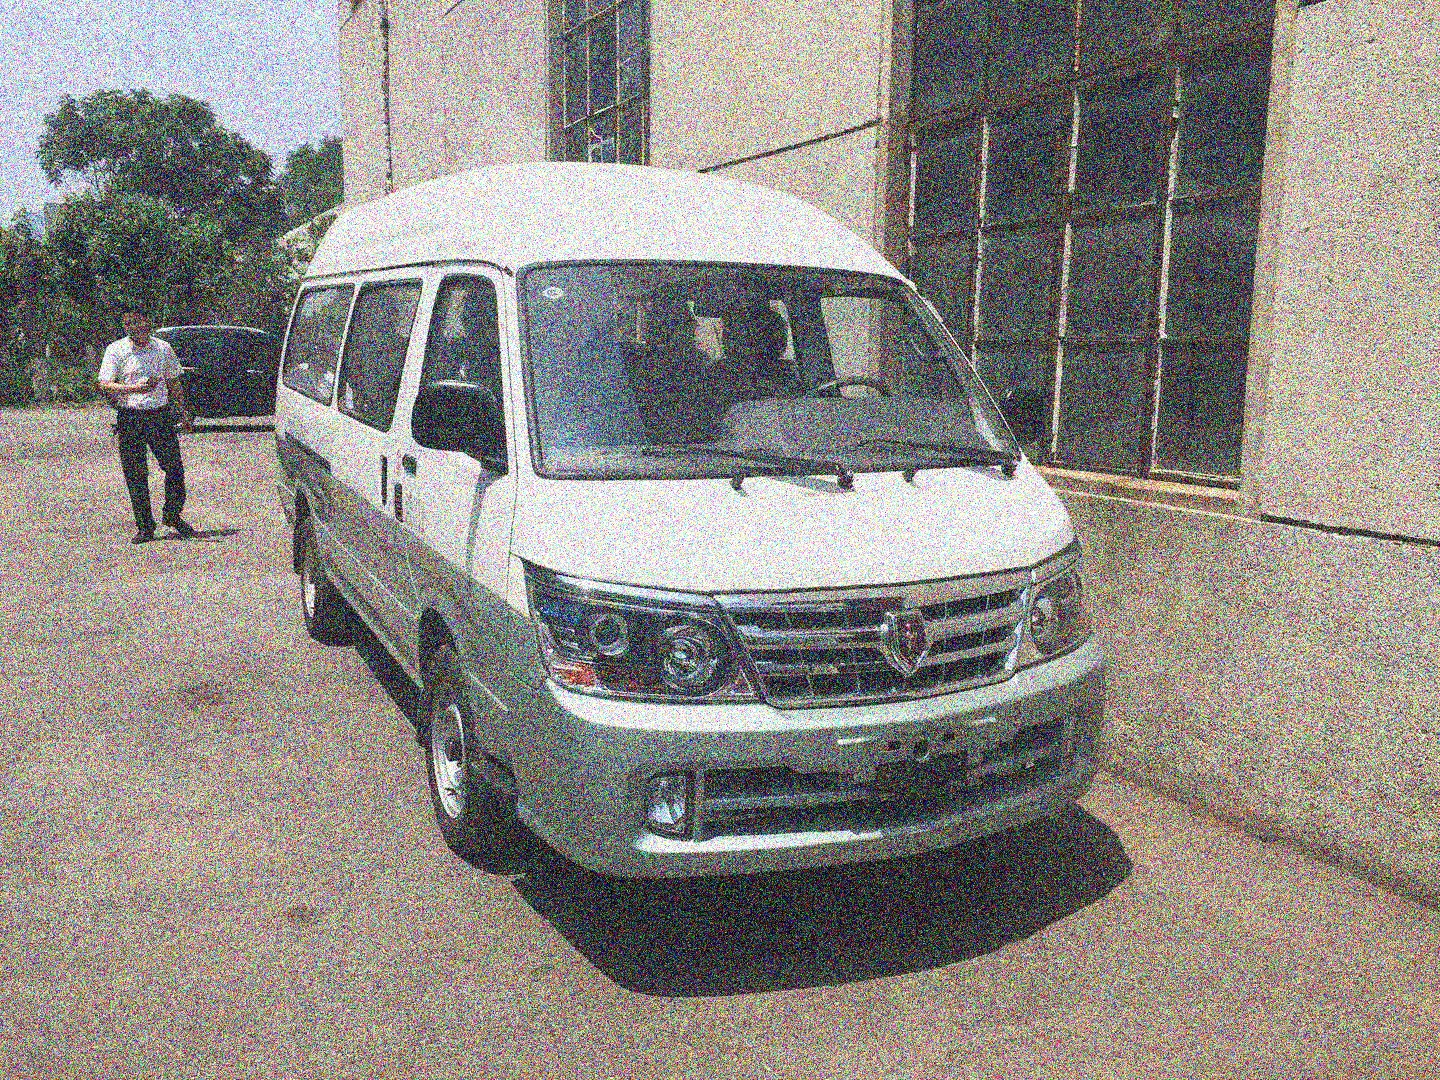van: (259, 157, 1123, 891)
